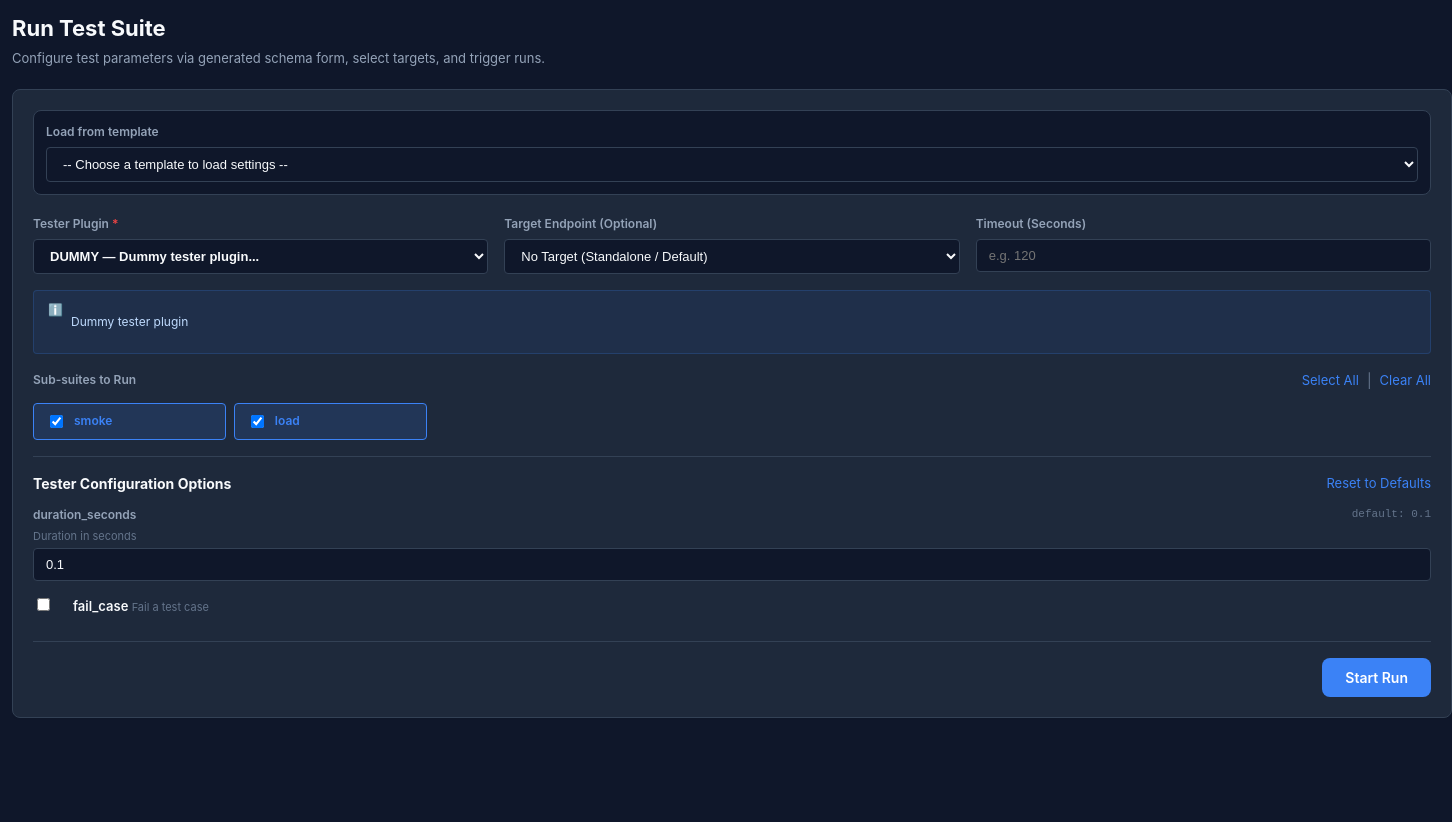
Scenario: TriggerView › lists starters in Load from template dropdown and loads starter config directly
Note: Select the starter option
Select "Smoke (dummy)" in the dropdown labelled "Load from template": [732, 164] box [46, 146, 1418, 182]
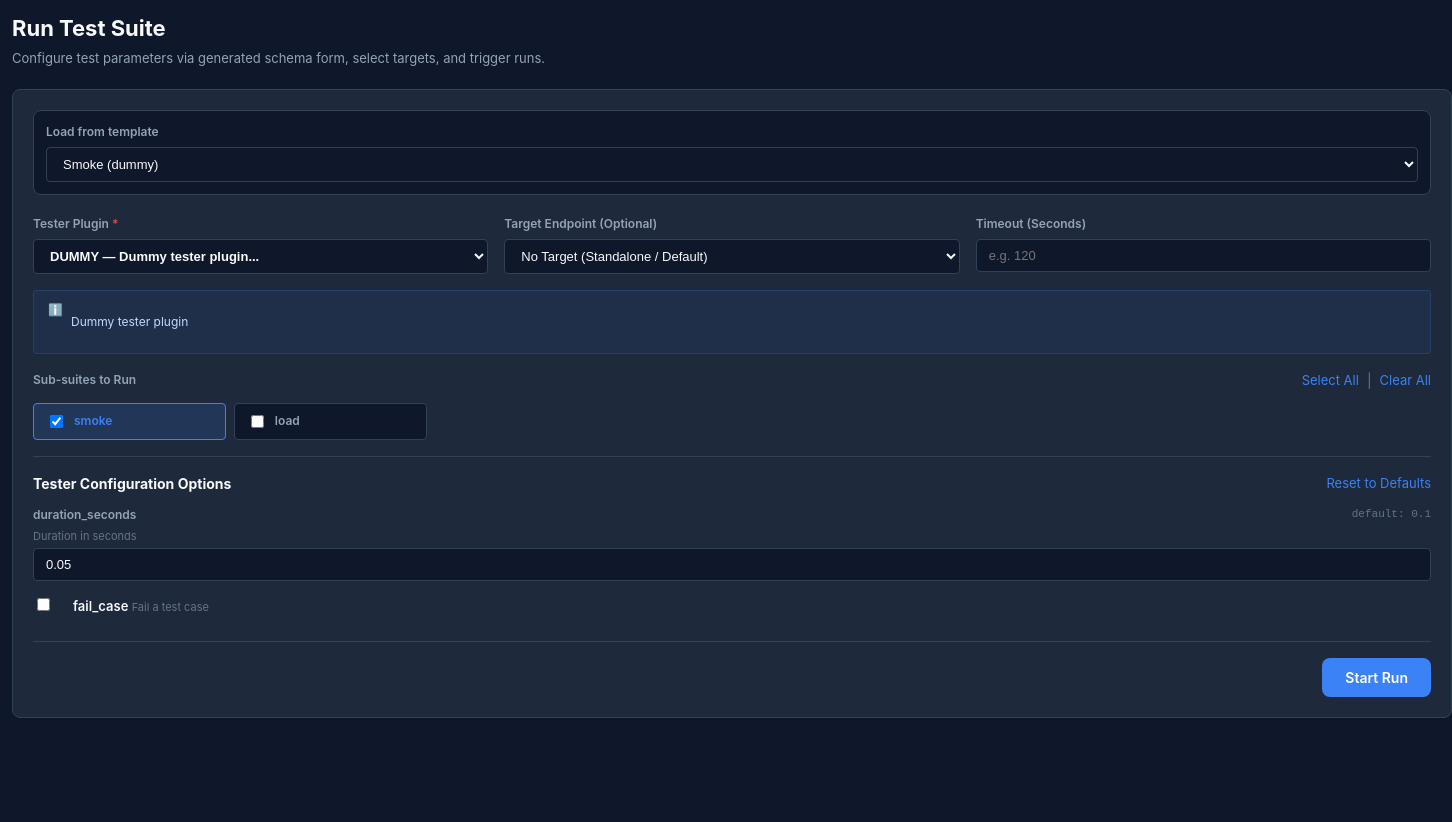
Check: the dropdown labelled "Tester Plugin *" shows "DUMMY — Dummy tester plugin...", box [33, 238, 488, 274]
Check: the checkbox labelled "load" is not checked, box [251, 414, 264, 428]
Check: the number field labelled "duration_seconds" holds "0.05", box [33, 548, 1431, 581]
